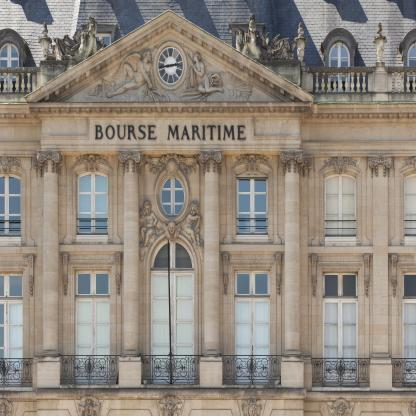Blind: (151, 271, 194, 385), (323, 299, 359, 387), (234, 297, 270, 384), (75, 297, 111, 384), (0, 299, 23, 386), (325, 173, 356, 236), (79, 175, 107, 221), (403, 299, 416, 387), (404, 173, 416, 236)
Building Outline: (0, 0, 416, 416)
Cornice: (24, 9, 314, 107), (321, 27, 358, 49), (400, 28, 416, 49)
Deco: (84, 41, 253, 102), (139, 201, 204, 262), (236, 13, 296, 60), (44, 16, 105, 60), (95, 125, 246, 139), (144, 154, 199, 176), (74, 153, 110, 173), (234, 154, 270, 173), (322, 157, 359, 175), (38, 22, 52, 67), (373, 22, 387, 66), (294, 22, 308, 66), (77, 395, 102, 416), (159, 395, 183, 416), (240, 395, 263, 416), (329, 398, 353, 416), (0, 156, 22, 175), (0, 398, 14, 416)
Door: (151, 271, 194, 385), (323, 299, 359, 387), (234, 297, 270, 384), (75, 297, 111, 384), (0, 299, 23, 386)
Facade: (1, 103, 415, 414)
Floor: (1, 254, 415, 410), (1, 111, 415, 254)
Floor Slab: (1, 103, 415, 111), (1, 246, 415, 254), (1, 402, 415, 410)
Ground Floor: (1, 411, 415, 416)
Molding: (0, 106, 416, 119)
Pillar: (117, 149, 144, 389), (37, 149, 63, 389), (199, 149, 224, 389), (280, 150, 305, 389), (368, 155, 393, 392)
Roof: (0, 0, 416, 93)
Top Floor: (1, 1, 415, 111)
Window: (77, 171, 108, 235), (237, 171, 268, 235), (325, 173, 356, 236), (0, 173, 21, 237), (403, 299, 416, 387), (328, 42, 350, 93), (323, 271, 359, 299), (234, 269, 270, 297), (75, 269, 111, 297), (0, 42, 19, 93), (236, 31, 259, 68), (88, 33, 111, 69), (404, 173, 416, 236), (0, 271, 23, 300), (407, 42, 416, 92), (403, 271, 416, 299)
